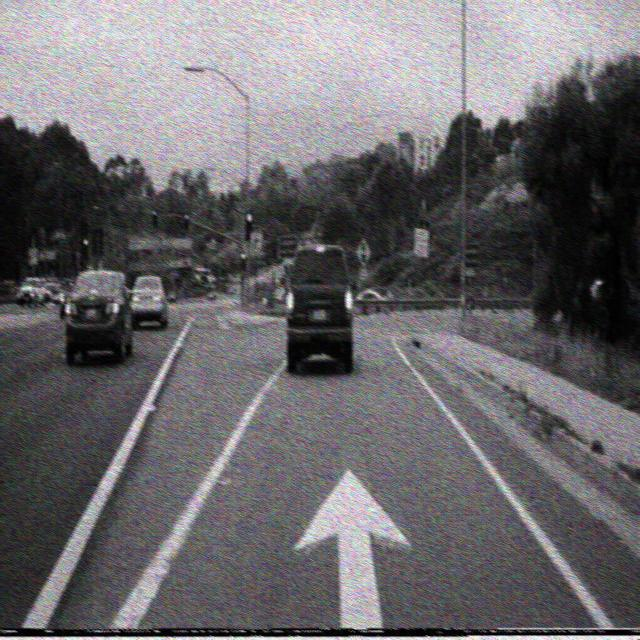noRightTurn: (249, 232, 262, 255)
